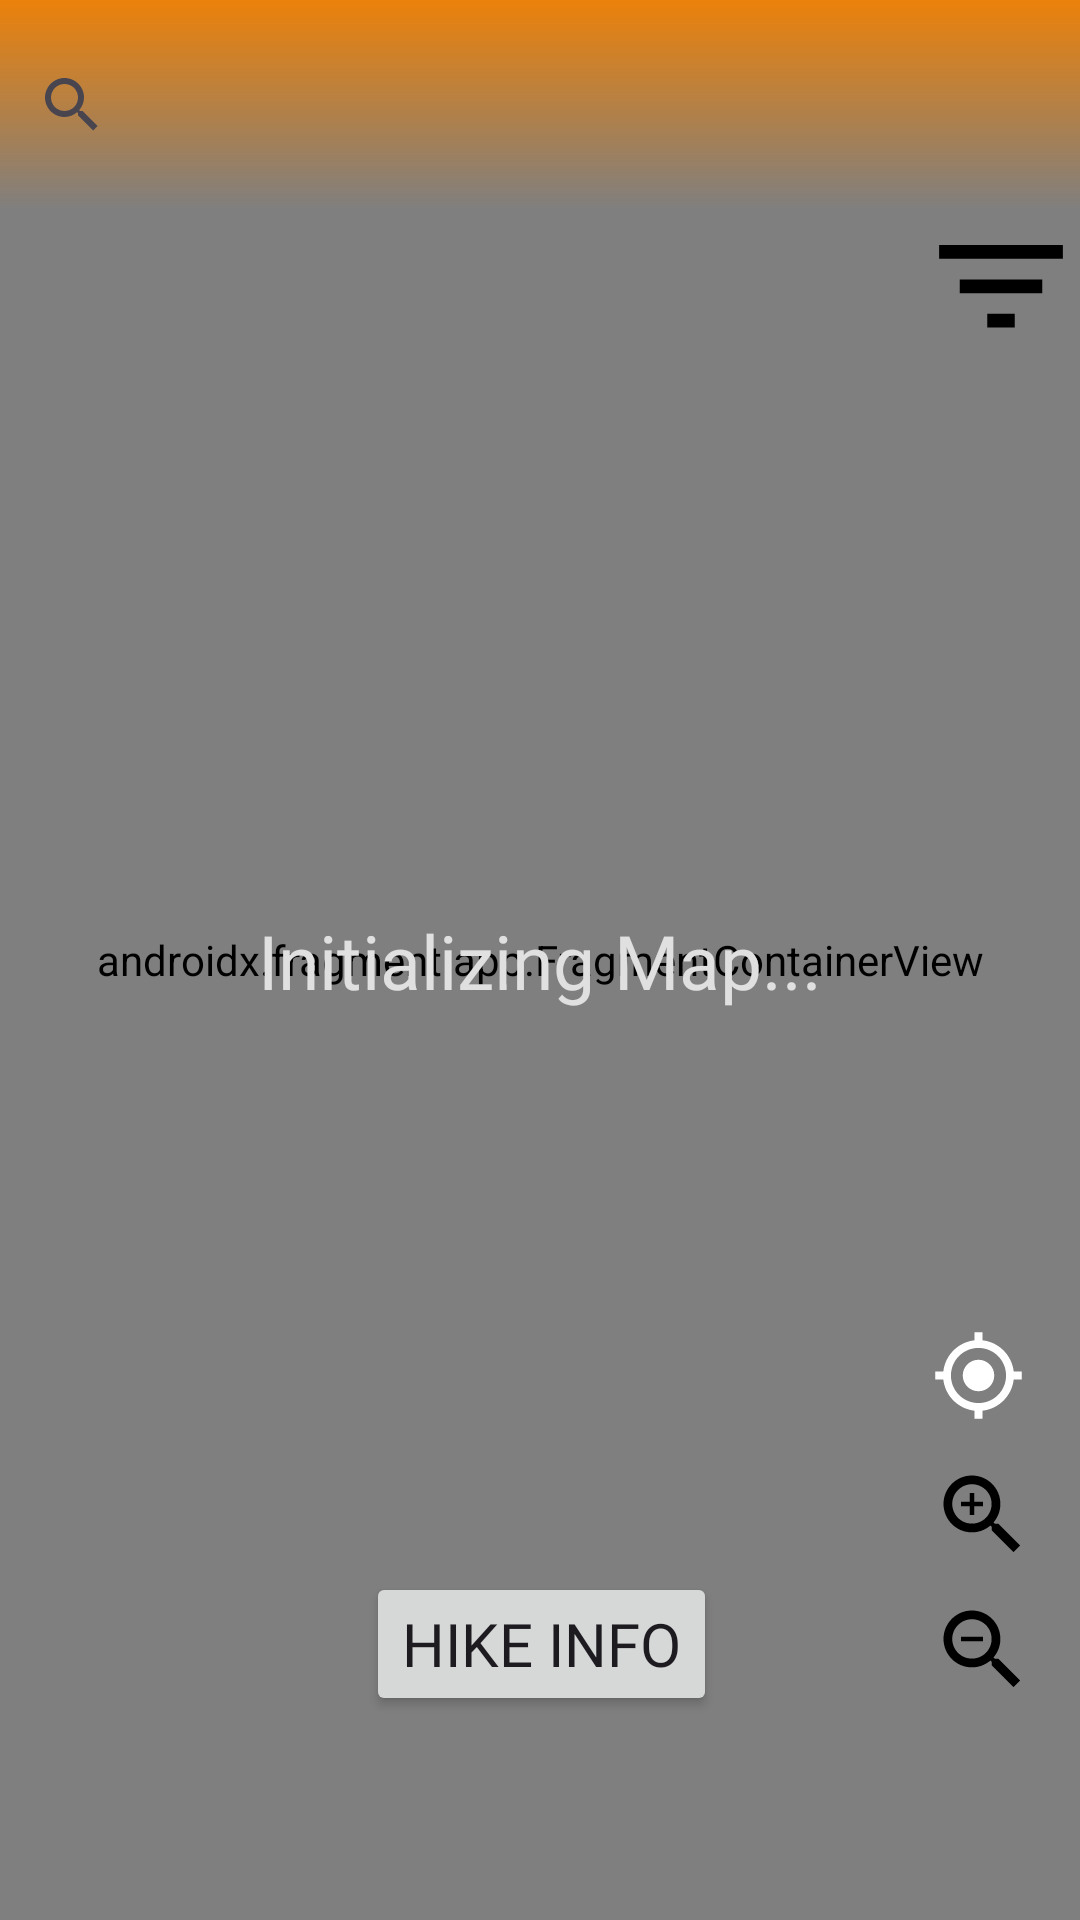

Icons on this 1080x1920 Android screen, each with its box as bbox=[x1, y1, x2, y2]:
filter: bbox=[939, 245, 1063, 328]
located trail: bbox=[935, 1332, 1022, 1419]
zoomin: bbox=[943, 1475, 1020, 1552]
zoomout: bbox=[943, 1610, 1020, 1687]
